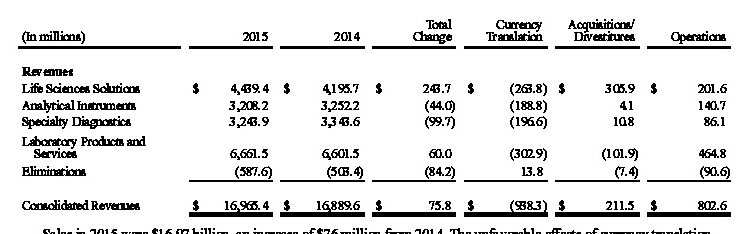table: (0, 0, 747, 234)
